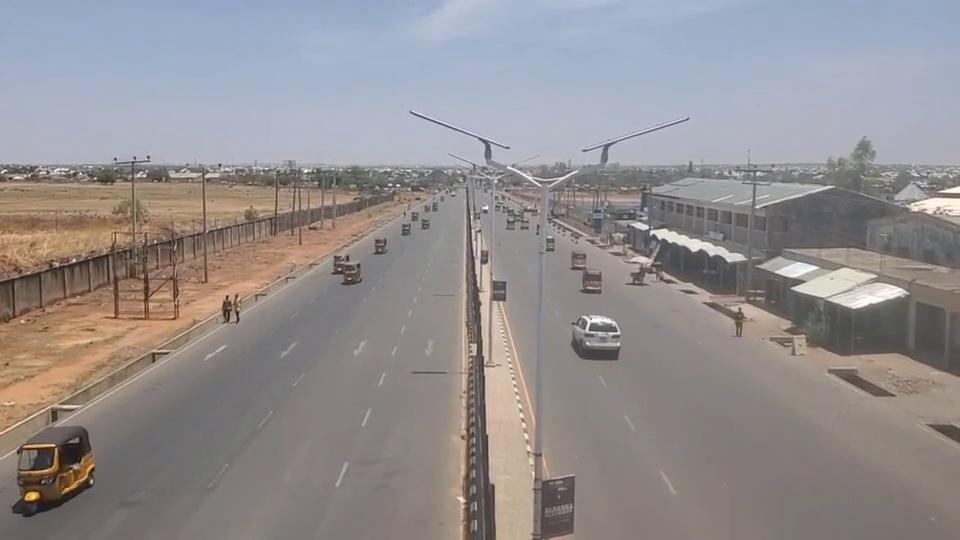car: (571, 314, 621, 356)
keke: (15, 424, 95, 505), (582, 267, 602, 293), (340, 261, 362, 284), (374, 237, 388, 254)
